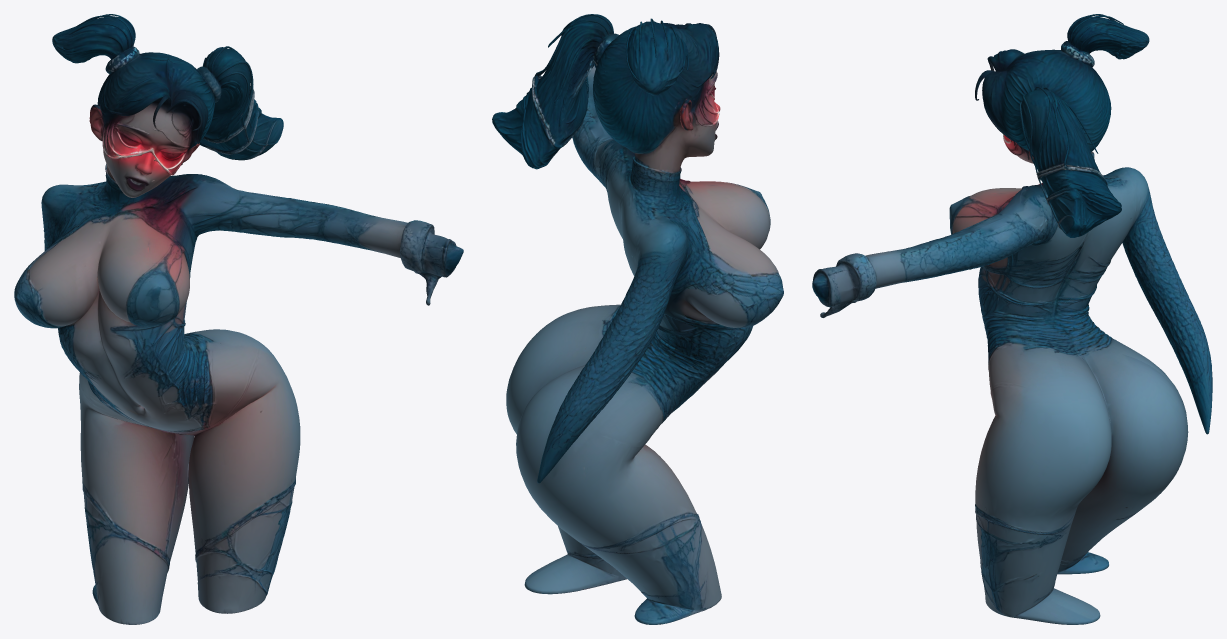
Rendered from girl-38.glb.
The picture shows the model from 3 angles, left to right: view 1: azimuth 30°, elevation 25°; view 2: azimuth 150°, elevation 25°; view 3: azimuth 270°, elevation 25°; orthographic projection. The views are drawn at different scales.
Parts seen in each view (by area): view 1: node_0; view 2: node_0; view 3: node_0.
Boxes of the visible parts, x1,y1,x2,y2 form: node_0: (14,14,463,624); node_0: (492,14,783,624); node_0: (812,14,1212,624).
Size of the model in its own units: 0.6512 by 1.11 by 0.7364.
1 material, 1 textured.
